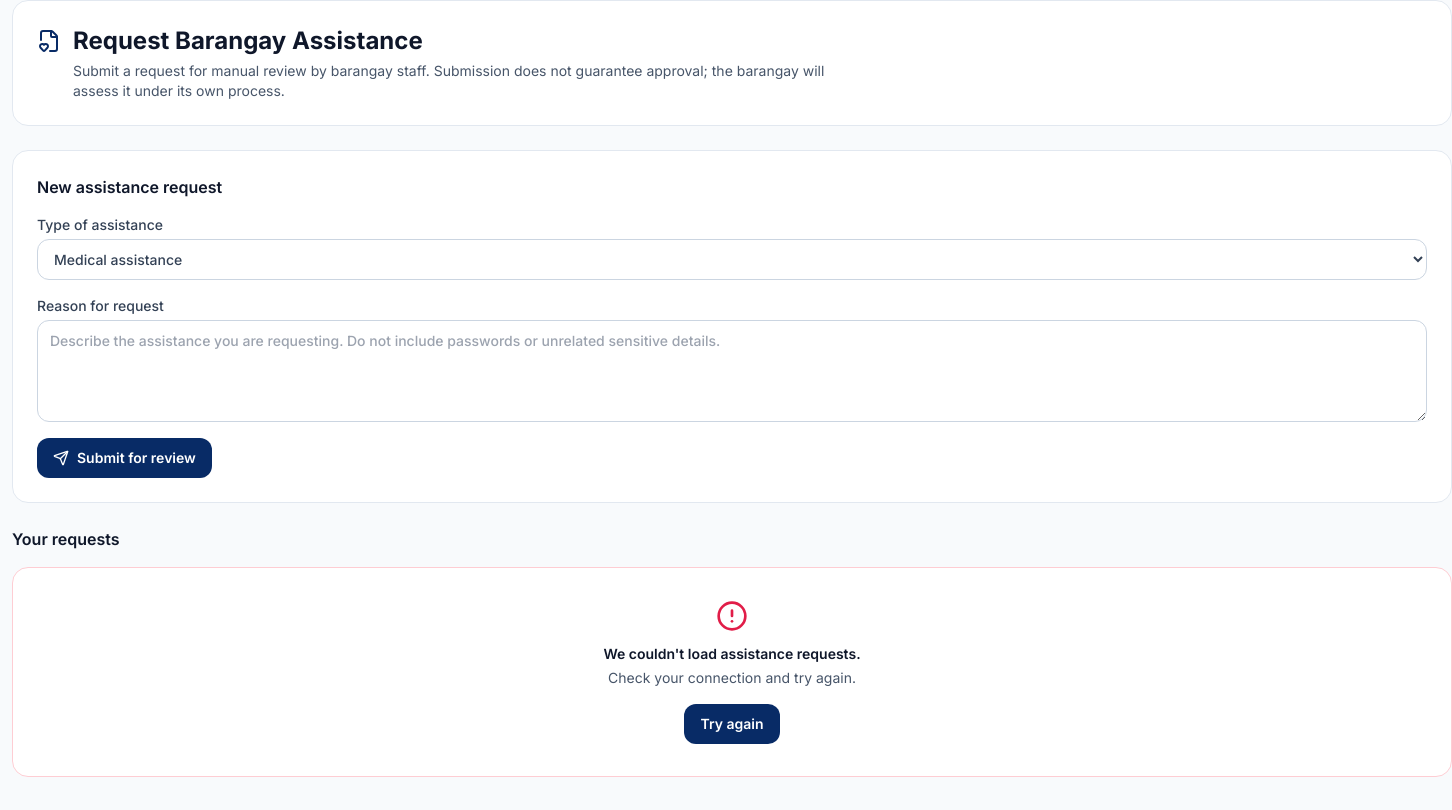
AidRequests › disables retry while the list request is pending without invoking mutations
expect the message is shown: met, box [12, 567, 1451, 777]
Click the button "Try again".
click(732, 724)  # box [684, 704, 780, 744]
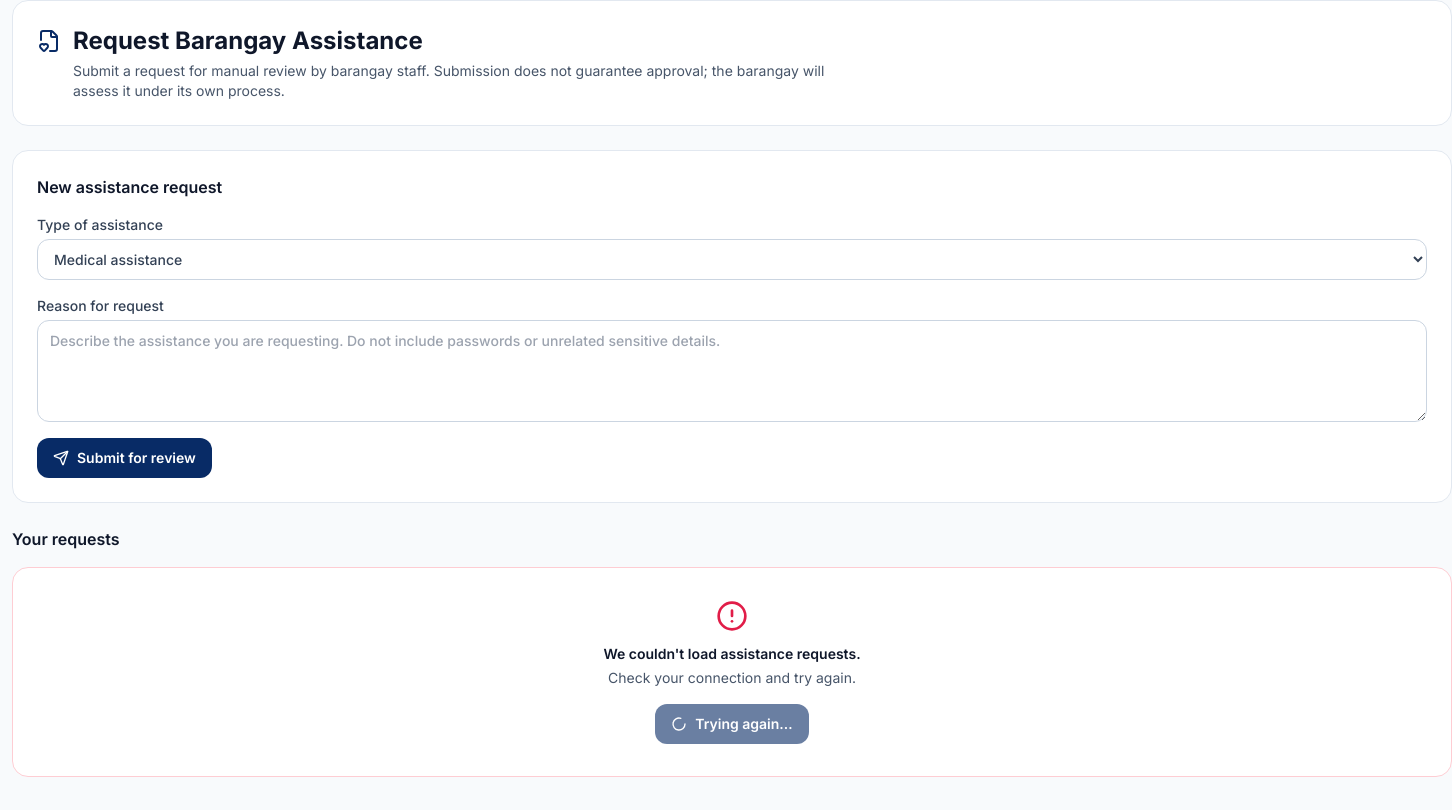
expect the button "Trying again…" is disabled: met, box [655, 704, 809, 744]
